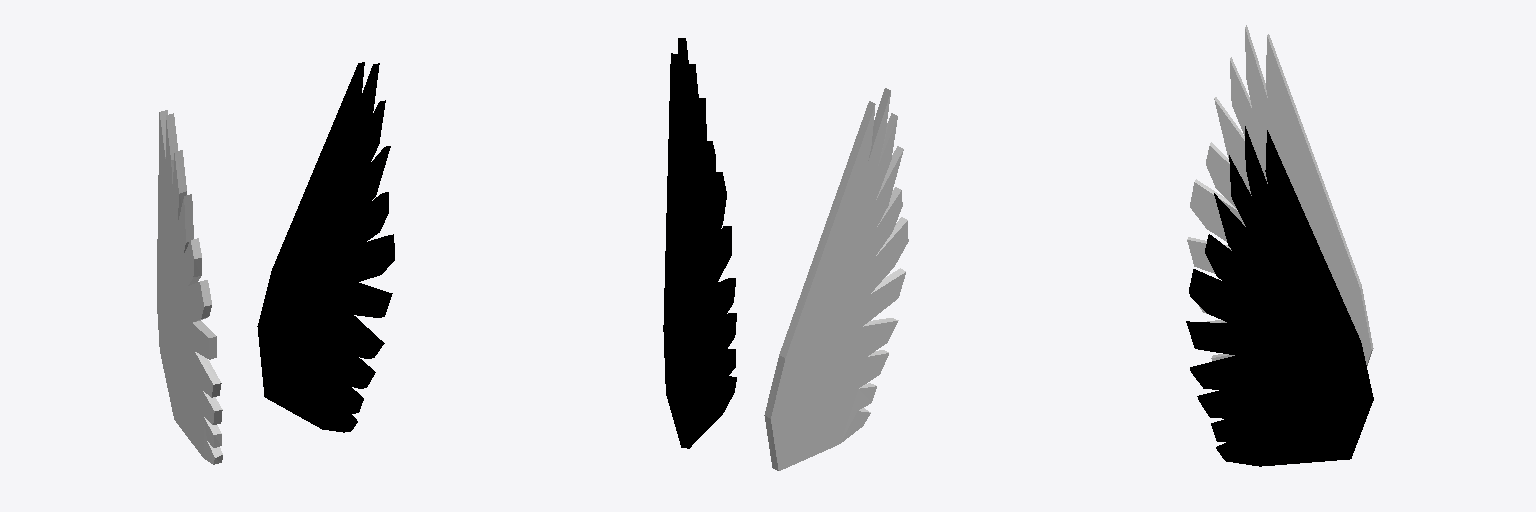
Rendered from model_benchpress_crowwing.obj.
3 views of the same model, side by side, from view 1: azimuth 30°, elevation 25°; view 2: azimuth 150°, elevation 25°; view 3: azimuth 270°, elevation 25° (orthographic).
Visible parts, largest first — view 1: hato:pCube4, hato:pasted__pCube4 hato:group11; view 2: hato:pasted__pCube4 hato:group11, hato:pCube4; view 3: hato:pCube4, hato:pasted__pCube4 hato:group11.
Boxes of the visible parts, x1,y1,x2,y2 form: hato:pCube4: [257, 62, 394, 432]; hato:pasted__pCube4 hato:group11: [157, 110, 222, 464]; hato:pasted__pCube4 hato:group11: [764, 88, 908, 470]; hato:pCube4: [663, 38, 736, 448]; hato:pCube4: [1186, 126, 1373, 466]; hato:pasted__pCube4 hato:group11: [1187, 25, 1373, 365].
Bounding box in the file's own units: 2.67 × 4.3 × 2.03.